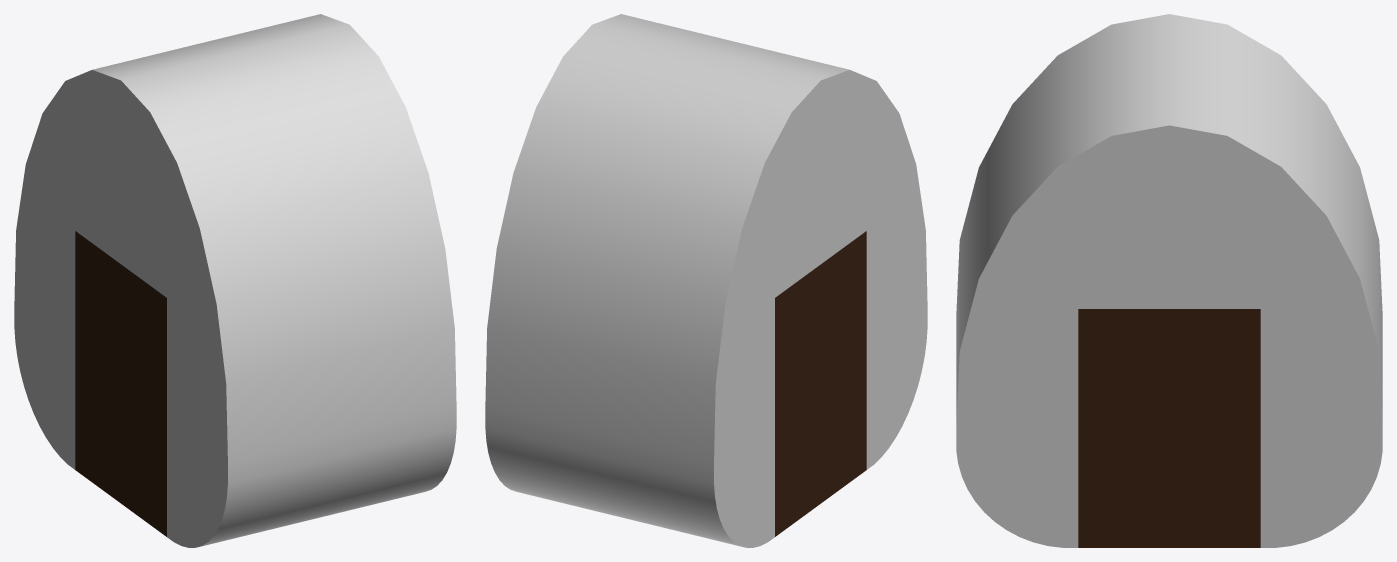
File: Rice Ball.glb
The picture shows the model from 3 angles, left to right: view 1: azimuth 30°, elevation 25°; view 2: azimuth 150°, elevation 25°; view 3: azimuth 270°, elevation 25°; orthographic projection.
Parts seen in each view (by area): view 1: Rice Ball; view 2: Rice Ball; view 3: Rice Ball.
Boxes of the visible parts, left/top/right/bottom form: Rice Ball: left=14, top=14, right=456, bottom=547; Rice Ball: left=485, top=14, right=927, bottom=547; Rice Ball: left=956, top=14, right=1382, bottom=547.
Size of the model in its own units: 0.0712 by 0.1259 by 0.1152.
